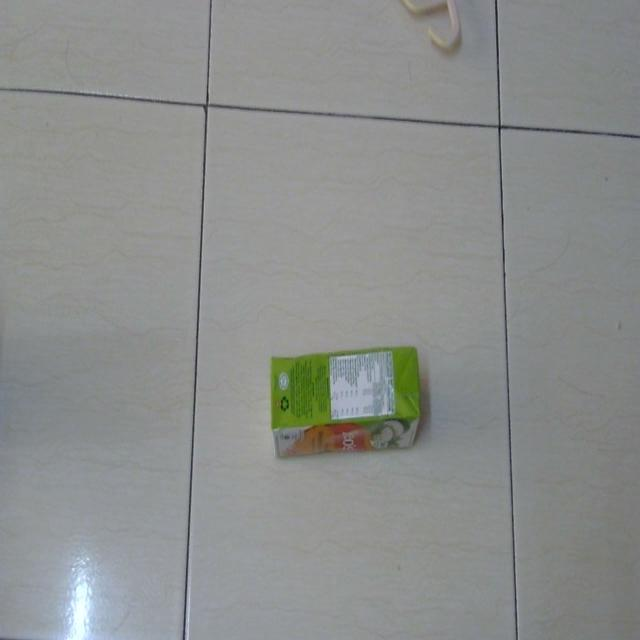plastic_laydown_0rotation: (262, 339, 428, 466)
